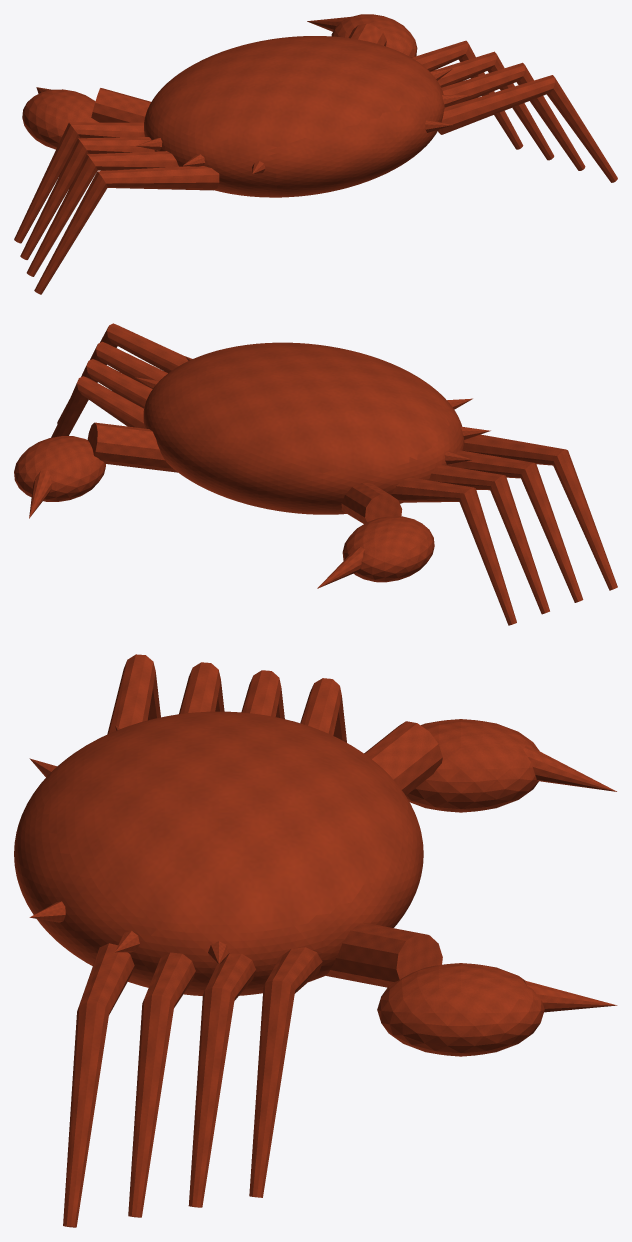
The model's file is crab_pbr_review.glb.
3 views of the same model, one above another, from view 1: azimuth 30°, elevation 25°; view 2: azimuth 150°, elevation 25°; view 3: azimuth 270°, elevation 25° (orthographic). The views are drawn at different scales.
Visible parts, largest first — view 1: carapace_main, walk_leg_-1_3, walk_leg_1_3, walk_leg_-1_2, palm_-1, walk_leg_-1_0, walk_leg_-1_1, walk_leg_1_2, walk_leg_1_1, palm_1, arm_-1, walk_leg_1_0 (+1 smaller); view 2: carapace_main, palm_-1, palm_1, walk_leg_-1_3, walk_leg_-1_0, walk_leg_-1_2, walk_leg_-1_1, arm_1, walk_leg_1_0, walk_leg_1_3, arm_-1, walk_leg_1_1 (+3 smaller); view 3: carapace_main, palm_1, palm_-1, walk_leg_1_3, walk_leg_1_2, walk_leg_1_0, walk_leg_1_1, arm_1, arm_-1, walk_leg_-1_3, walk_leg_-1_0, walk_leg_-1_2 (+3 smaller).
Boxes of the visible parts, x1,y1,x2,y2 form: carapace_main: [144, 36, 444, 197]; walk_leg_-1_3: [34, 166, 219, 294]; walk_leg_1_3: [438, 75, 617, 182]; walk_leg_-1_2: [26, 151, 178, 276]; palm_-1: [22, 89, 98, 149]; walk_leg_-1_0: [14, 122, 144, 243]; walk_leg_-1_1: [20, 137, 154, 259]; walk_leg_1_2: [441, 62, 585, 170]; walk_leg_1_1: [430, 51, 554, 160]; palm_1: [331, 14, 417, 57]; arm_-1: [91, 88, 150, 122]; walk_leg_1_0: [412, 40, 523, 149]; carapace_main: [143, 342, 464, 514]; palm_-1: [342, 516, 434, 582]; palm_1: [14, 436, 105, 501]; walk_leg_-1_3: [463, 434, 617, 590]; walk_leg_-1_0: [391, 477, 516, 625]; walk_leg_-1_2: [452, 450, 583, 602]; walk_leg_-1_1: [429, 464, 549, 614]; arm_1: [87, 422, 177, 472]; walk_leg_1_0: [53, 376, 144, 437]; walk_leg_1_3: [57, 323, 187, 423]; arm_-1: [341, 482, 402, 523]; walk_leg_1_1: [52, 359, 152, 437]; carapace_main: [14, 711, 423, 995]; palm_1: [377, 963, 544, 1056]; palm_-1: [406, 719, 539, 812]; walk_leg_1_3: [63, 943, 134, 1227]; walk_leg_1_2: [128, 952, 195, 1217]; walk_leg_1_0: [249, 947, 322, 1197]; walk_leg_1_1: [188, 953, 255, 1207]; arm_1: [325, 923, 442, 987]; arm_-1: [364, 721, 442, 795]; walk_leg_-1_3: [107, 654, 160, 734]; walk_leg_-1_0: [300, 678, 346, 742]; walk_leg_-1_2: [179, 662, 224, 714].
Size of the model in its own units: 2.23 by 0.5973 by 1.3.
Materials: 1 (1 with a texture image).
